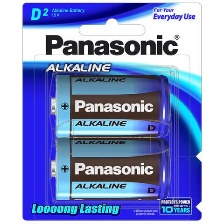battery: (47, 71, 172, 141), (50, 139, 173, 204)
book: (18, 0, 205, 222)
